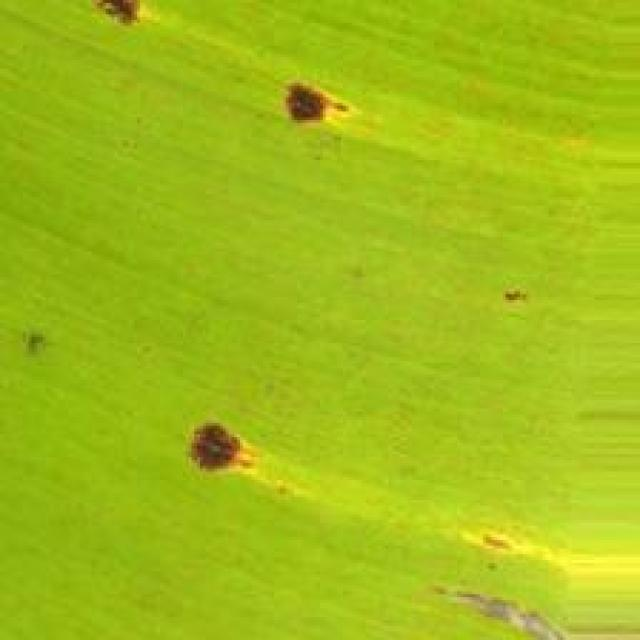Bacterial_spot: (157, 388, 296, 518), (420, 574, 557, 640), (271, 60, 363, 133), (443, 517, 561, 568), (72, 0, 172, 47), (9, 308, 72, 373), (489, 270, 543, 323)
